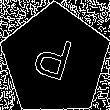P_S: (31, 31, 79, 90)
